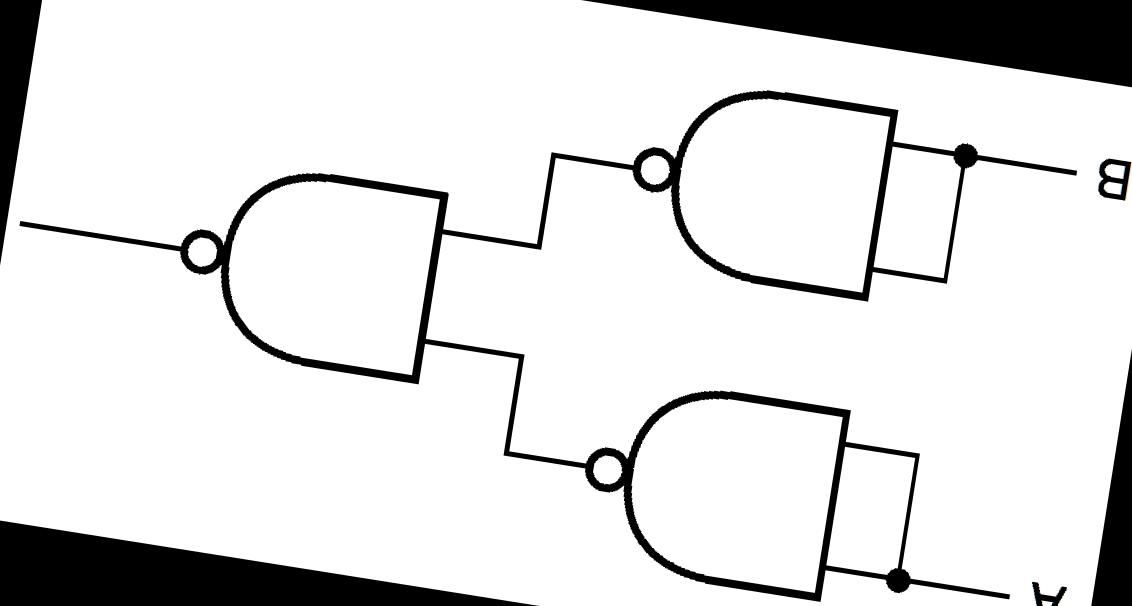nand: (143, 132, 478, 402), (602, 51, 921, 312), (554, 356, 872, 606)
